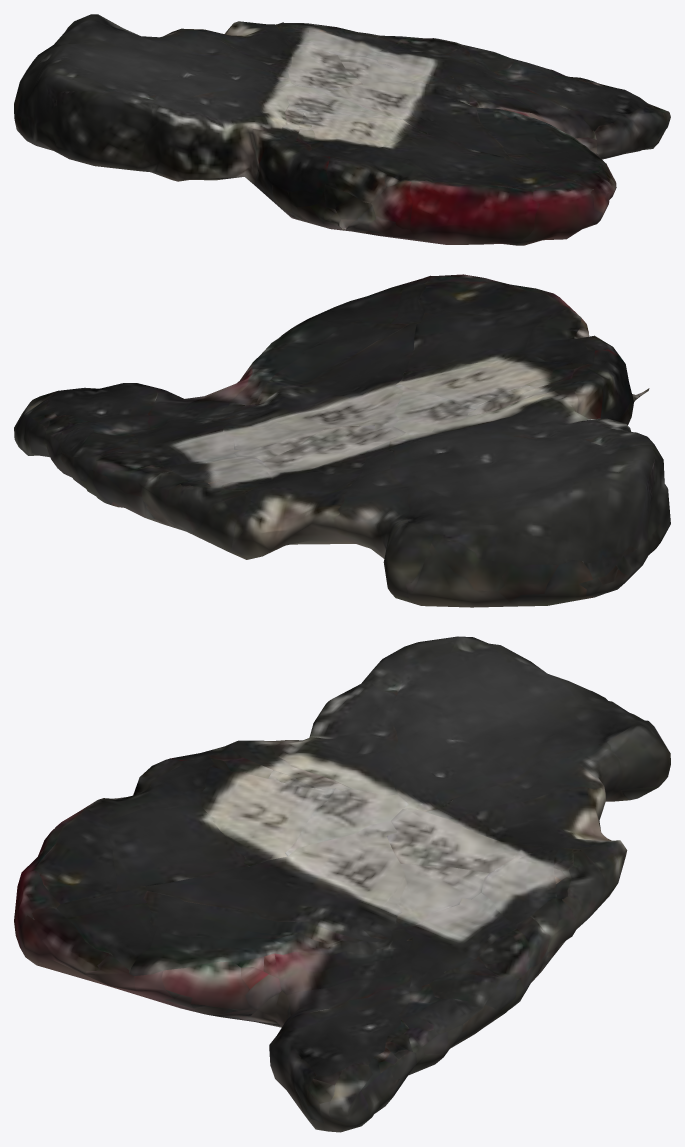
File: hall.glb
3 views of the same model, one above another, from view 1: azimuth 30°, elevation 25°; view 2: azimuth 150°, elevation 25°; view 3: azimuth 270°, elevation 25° (orthographic). The views are drawn at different scales.
Bounding box in the file's own units: 0.7455 × 0.1992 × 0.6309.
1 material, 1 textured.
